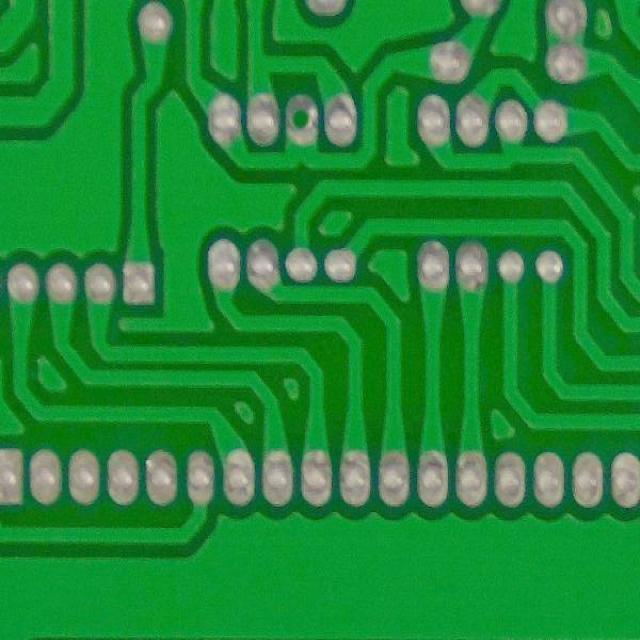missing hole: (282, 84, 321, 148)
